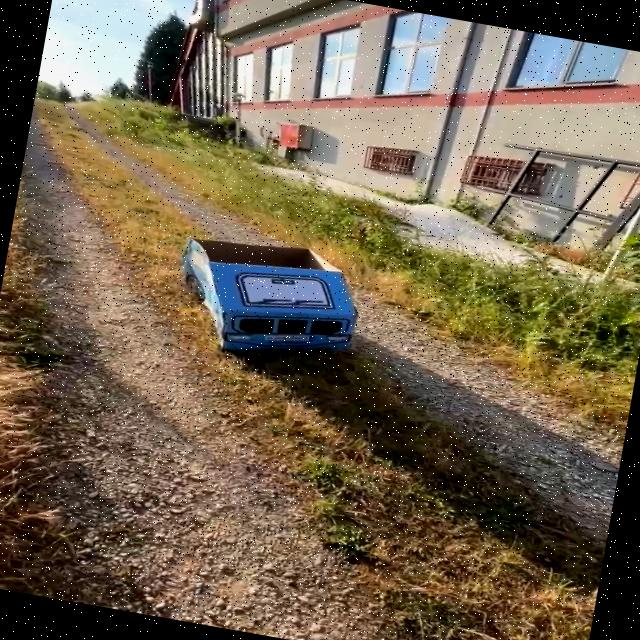blue_car: (106, 199, 418, 408)
